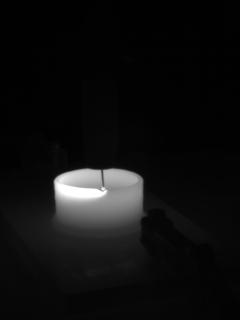tip_wire_left: (85, 164, 105, 190)
tip_wire_right: (101, 162, 117, 191)
